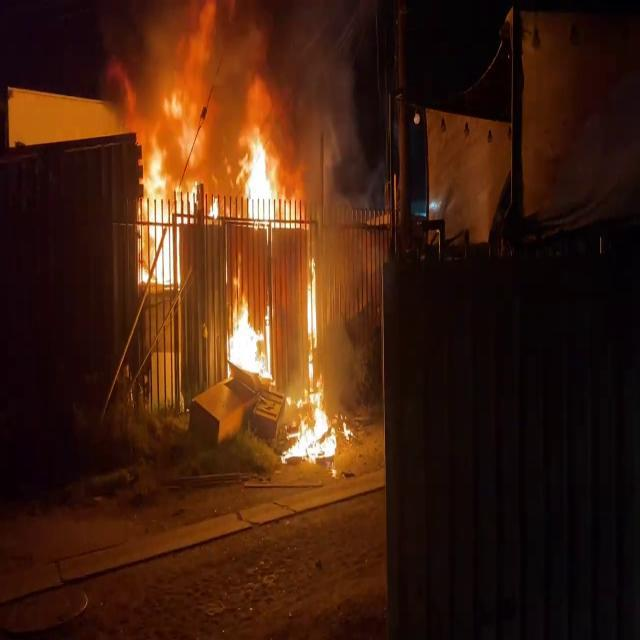Fire: (236, 121, 288, 229), (224, 288, 271, 386)
